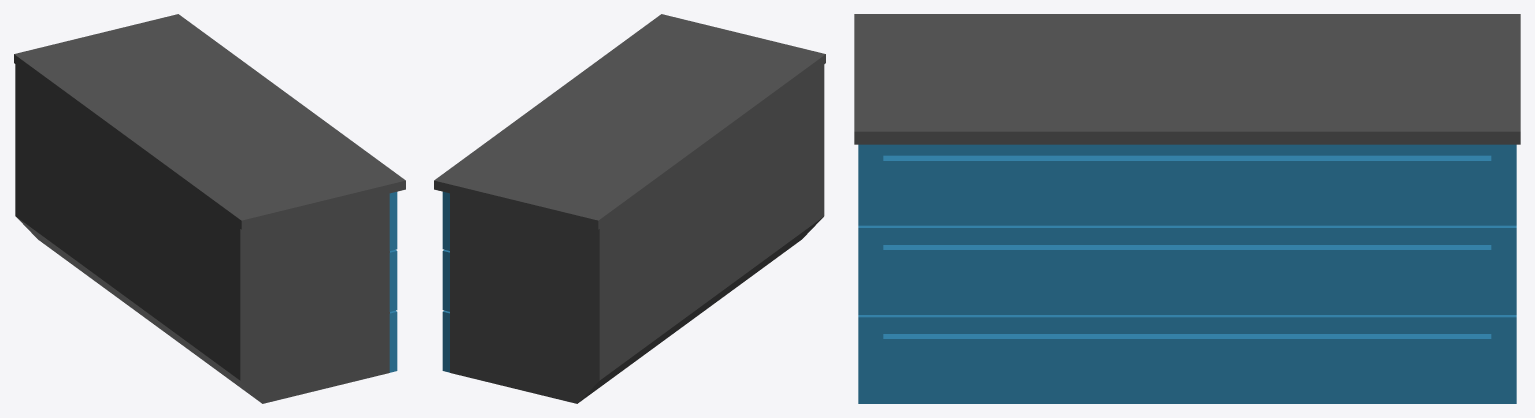
The model's file is dresser_tier11.fbx.
The picture shows the model from 3 angles, left to right: view 1: azimuth 30°, elevation 25°; view 2: azimuth 150°, elevation 25°; view 3: azimuth 270°, elevation 25°; orthographic projection. The views are drawn at different scales.
Visible parts, largest first — view 1: Cube.022, Cube.021, Cube.002, Cube.001, Cube; view 2: Cube.022, Cube.021, Cube.001, Cube.002, Cube; view 3: Cube.021, Cube.001, Cube.002, Cube.
Part boxes in pixels (left/top/right/bottom): Cube.022: left=15, top=64, right=389, bottom=403; Cube.021: left=14, top=14, right=405, bottom=229; Cube.002: left=389, top=310, right=397, bottom=372; Cube.001: left=389, top=250, right=397, bottom=311; Cube: left=389, top=192, right=397, bottom=250; Cube.022: left=450, top=64, right=824, bottom=403; Cube.021: left=434, top=14, right=825, bottom=229; Cube.001: left=442, top=249, right=449, bottom=311; Cube.002: left=442, top=310, right=449, bottom=372; Cube: left=442, top=191, right=449, bottom=250; Cube.021: left=854, top=14, right=1520, bottom=144; Cube.001: left=858, top=225, right=1516, bottom=314; Cube.002: left=858, top=315, right=1516, bottom=403; Cube: left=858, top=144, right=1516, bottom=225.
Size of the model in its own units: 91.67 by 101 by 220.
